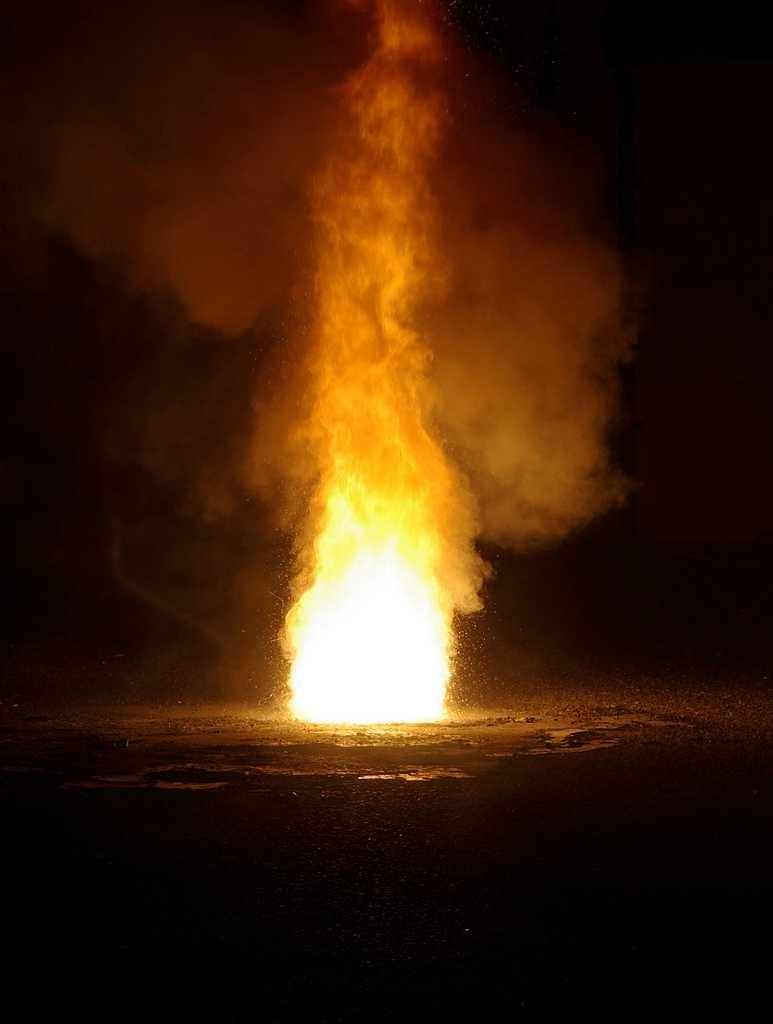fire: (261, 474, 473, 733)
smoke: (247, 94, 593, 442)
